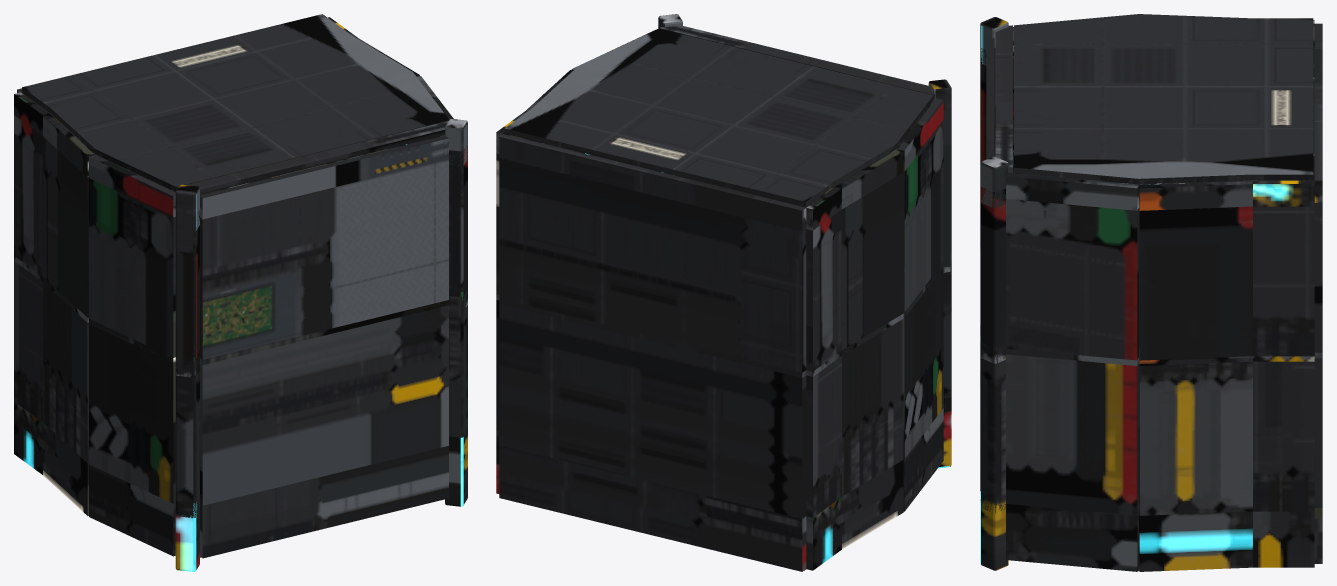
File: cockpit_cab.gltf
3 views of the same model, side by side, from view 1: azimuth 30°, elevation 25°; view 2: azimuth 150°, elevation 25°; view 3: azimuth 270°, elevation 25° (orthographic). The views are drawn at different scales.
Parts seen in each view (by area): view 1: pod_cabin, INNER_ramp_1_cabin; view 2: pod_cabin, INNER_ramp_1_cabin; view 3: pod_cabin, INNER_ramp_1_cabin.
Part boxes in pixels (x1,y1,x2,y2): pod_cabin: (14,14,467,571); INNER_ramp_1_cabin: (176,121,448,558); pod_cabin: (496,14,951,571); INNER_ramp_1_cabin: (659,25,934,179); pod_cabin: (980,14,1322,571); INNER_ramp_1_cabin: (986,25,1019,173).
Bounding box in the file's own units: 1.98 × 2.16 × 1.66.
6 materials, 5 textured.
